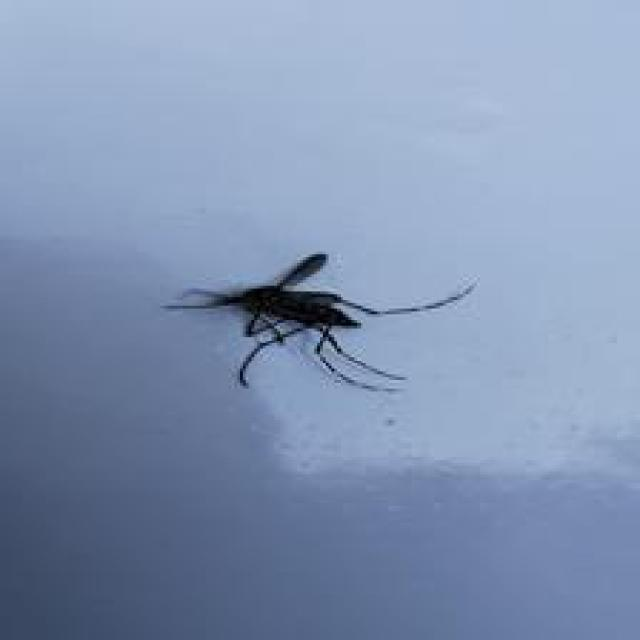Aedes albopictus: (160, 250, 477, 393)
